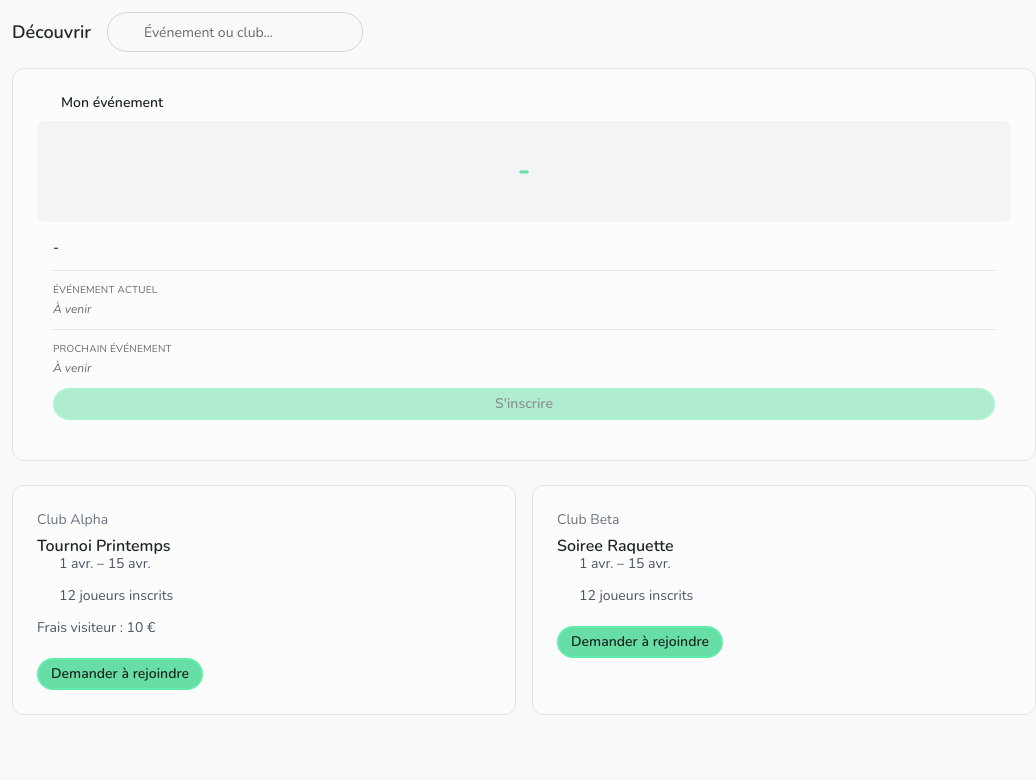
Test: UserDiscover › filters events by search input
expect the text "Tournoi Printemps" is shown: met, box [37,535,171,557]
expect the text "Soiree Raquette" is shown: met, box [557,535,674,557]
Type "Beta" into the field with placeholder "Événement ou club...".
click(235, 32); type("Beta")  # box [107,12,363,52]
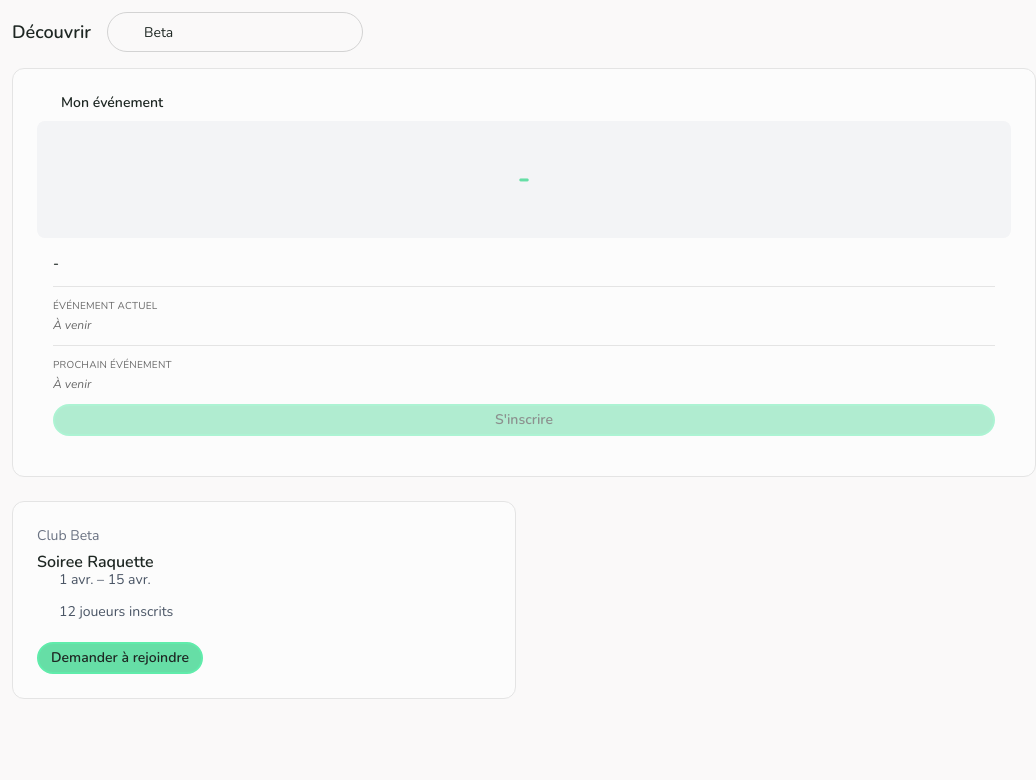
expect the text "Soiree Raquette" is shown: met, box [37,551,154,573]
expect the text "Tournoi Printemps" is gone: met
